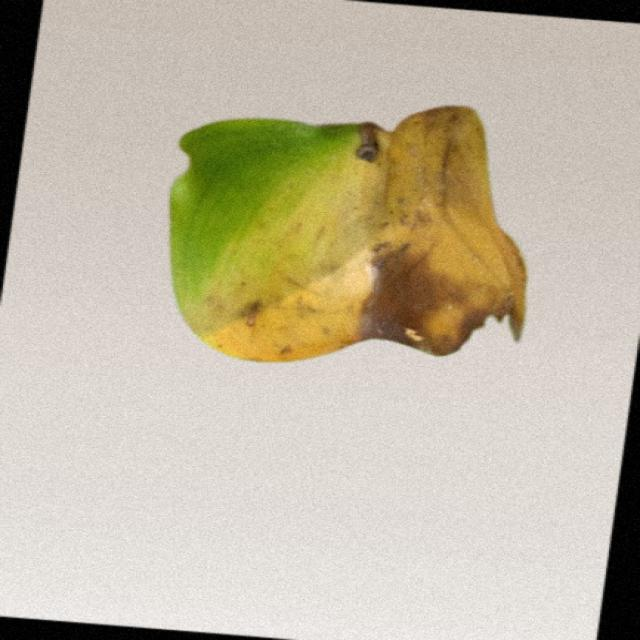daun berpenyakit kuning: (170, 108, 526, 361)
